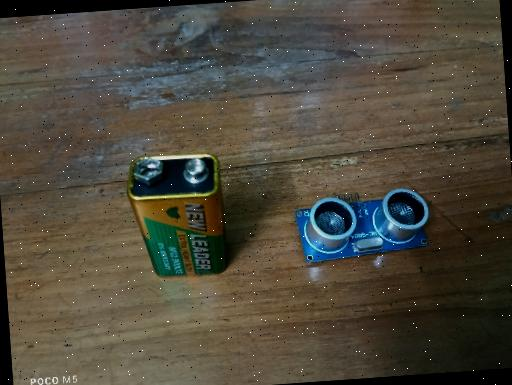Battery: (124, 149, 228, 280)
sensor: (293, 186, 431, 264)
